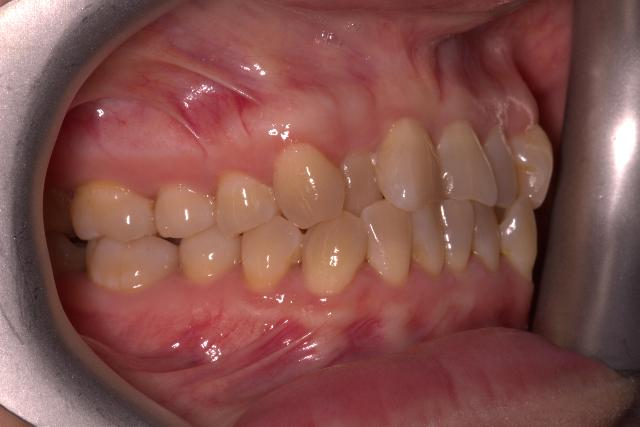canine class II 1/4: (240, 133, 370, 303)
molar class I: (61, 174, 180, 304)
